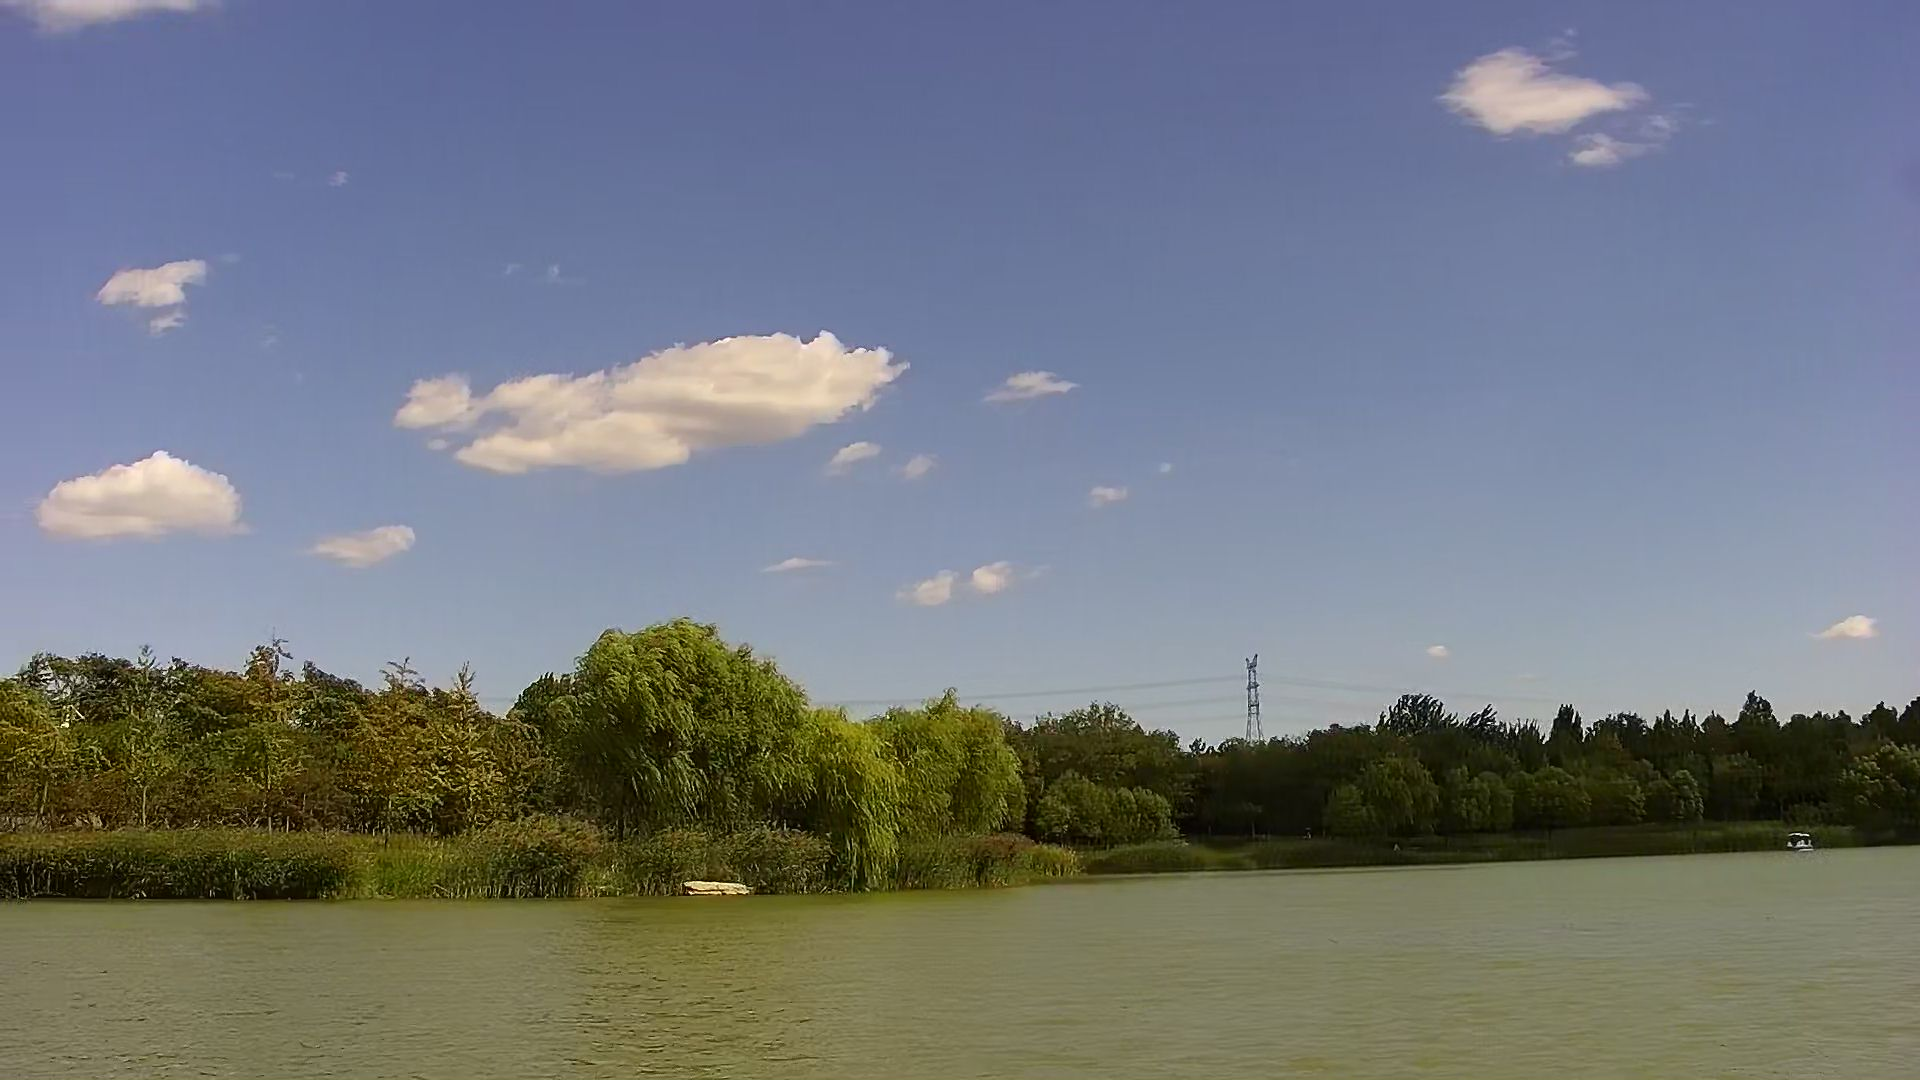boat: (1780, 829, 1811, 847)
rock: (674, 874, 749, 905)
